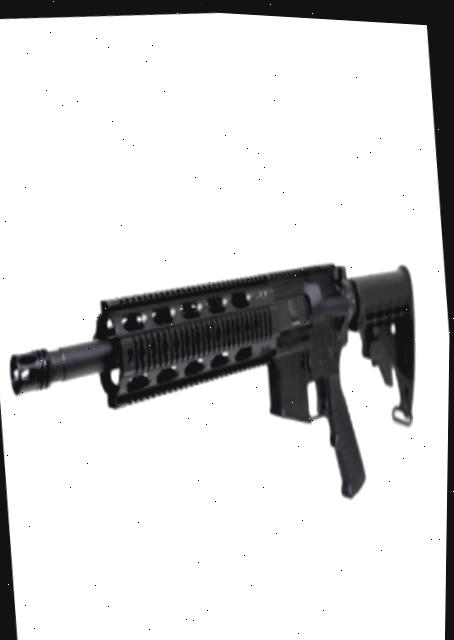rifle: (0, 227, 445, 527)
